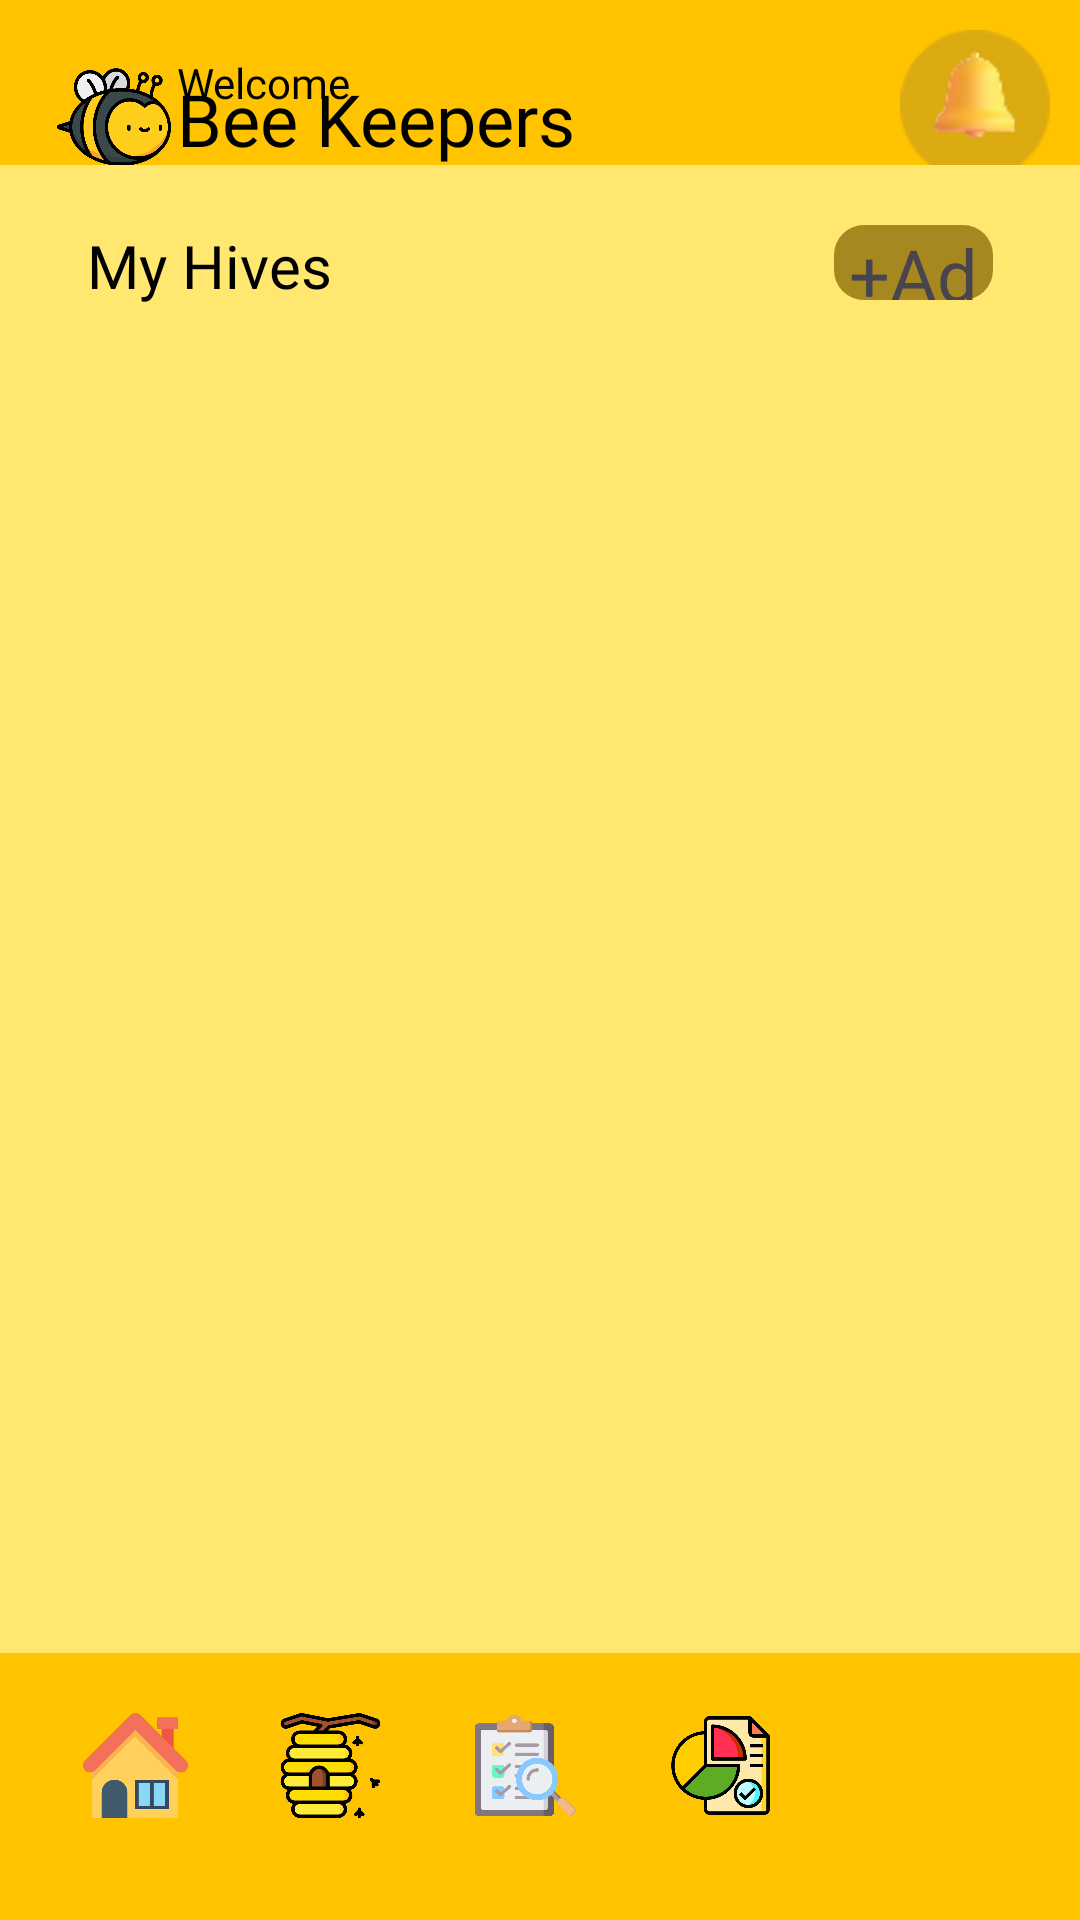

Icon click points for this 1080px×1920px phone screenshot, format (x,y):
Home: (135,1765)
Inspection: (525,1765)
notif: (975,105)
Reports: (720,1765)
